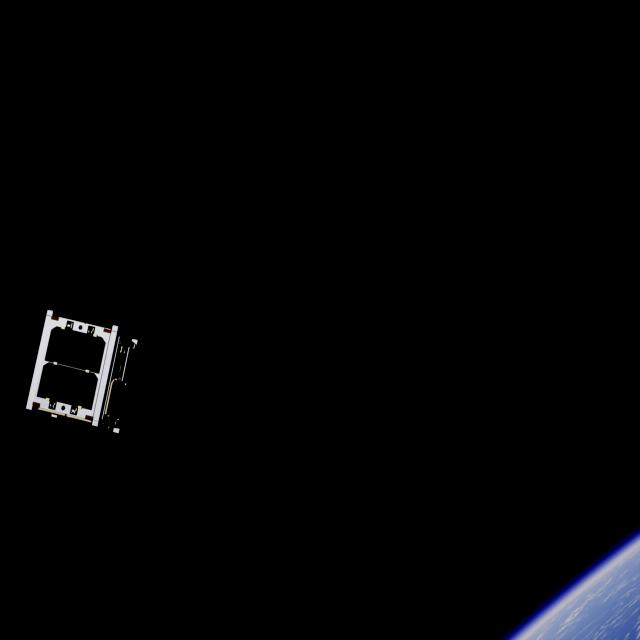satellite: (17, 306, 138, 438)
